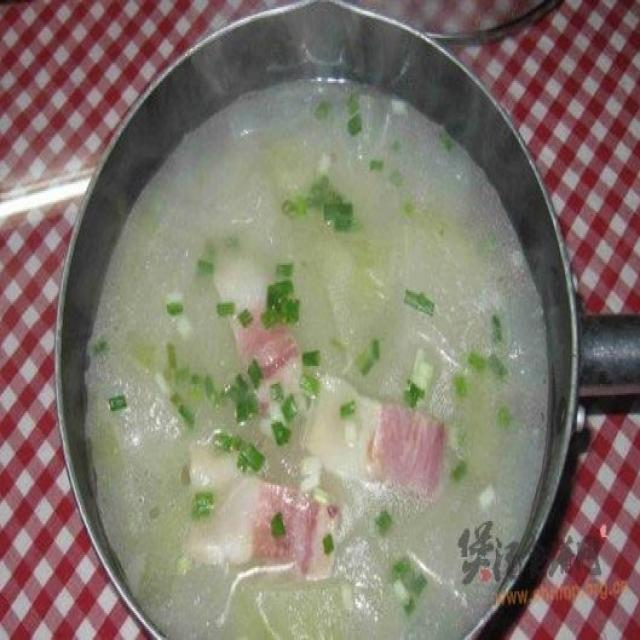汤锅炖物: (59, 41, 586, 615)
